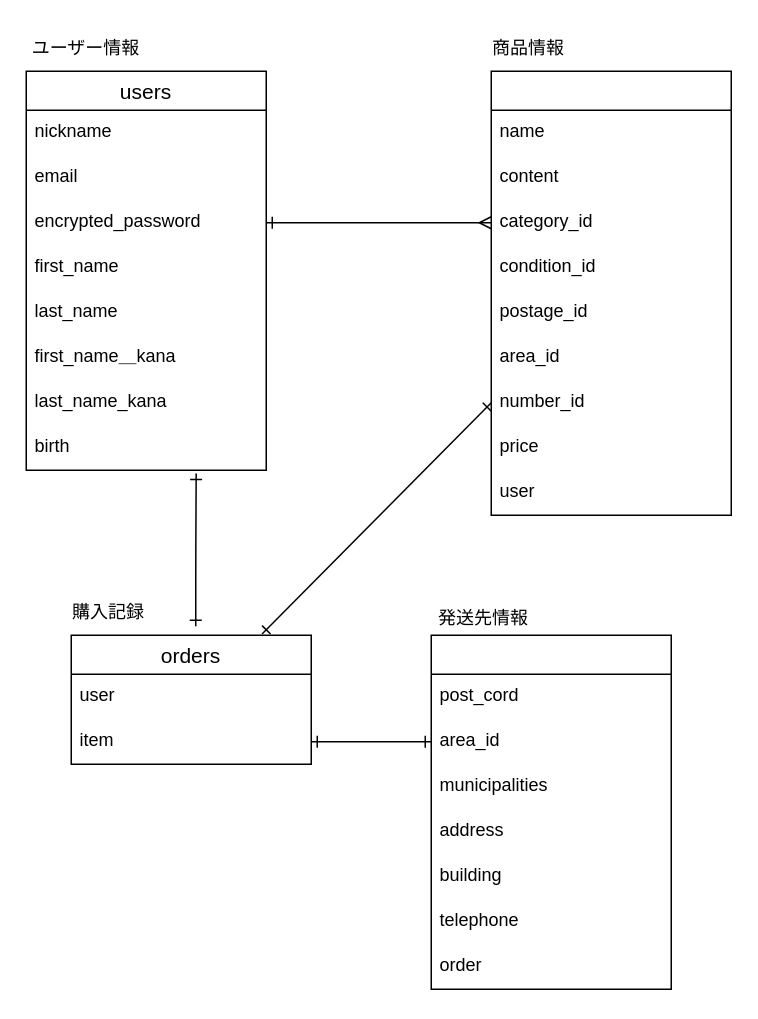
The diagram is 758 pixels wide and 1019 high, and some of its shapes have lost their labels. Each missing label, with the box of its shape:
departs: (430, 634, 671, 989)
items: (490, 70, 731, 515)
